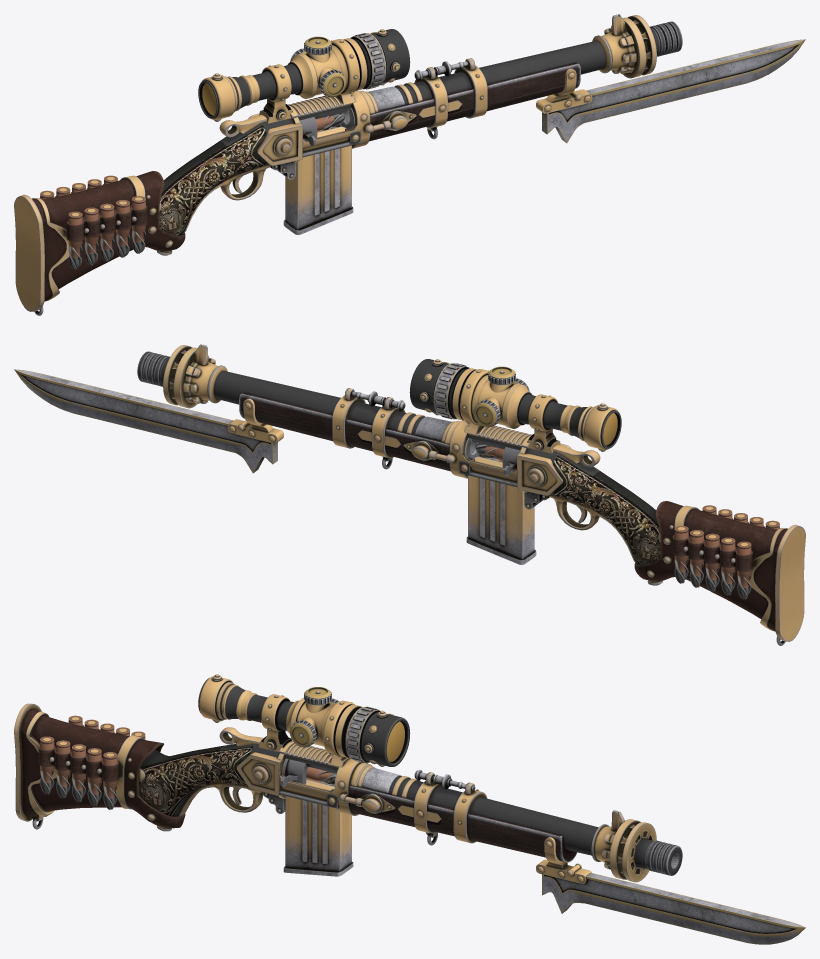
The model's file is rifle.glb.
3 views of the same model, one above another, from view 1: azimuth 30°, elevation 25°; view 2: azimuth 150°, elevation 25°; view 3: azimuth 330°, elevation 25° (orthographic).
Visible parts, largest first — view 1: Rifle_Body, Rifle_Sight, Rifle_Bayonet, Rifle_Magazine, Rifle_Bullet; view 2: Rifle_Body, Rifle_Sight, Rifle_Bayonet, Rifle_Magazine, Rifle_Bullet; view 3: Rifle_Body, Rifle_Sight, Rifle_Bayonet, Rifle_Magazine, Rifle_Bullet, Rifle_Bolt.
Part boxes in pixels (box(x1,y1,x2,y2)): Rifle_Body: box(14, 14, 682, 315); Rifle_Sight: box(198, 29, 410, 123); Rifle_Bayonet: box(536, 39, 805, 143); Rifle_Magazine: box(283, 124, 353, 234); Rifle_Bullet: box(40, 113, 345, 269); Rifle_Body: box(137, 344, 805, 645); Rifle_Sight: box(409, 359, 621, 453); Rifle_Bayonet: box(14, 369, 283, 473); Rifle_Magazine: box(466, 454, 536, 564); Rifle_Bullet: box(475, 443, 779, 599); Rifle_Body: box(14, 703, 682, 882); Rifle_Sight: box(198, 674, 410, 766); Rifle_Bayonet: box(536, 837, 805, 944); Rifle_Magazine: box(283, 779, 353, 876); Rifle_Bullet: box(40, 715, 336, 809); Rifle_Bolt: box(280, 758, 337, 786).
Size of the model in its own units: 1.39 by 0.3497 by 0.1142.
10 materials, 10 textured.
